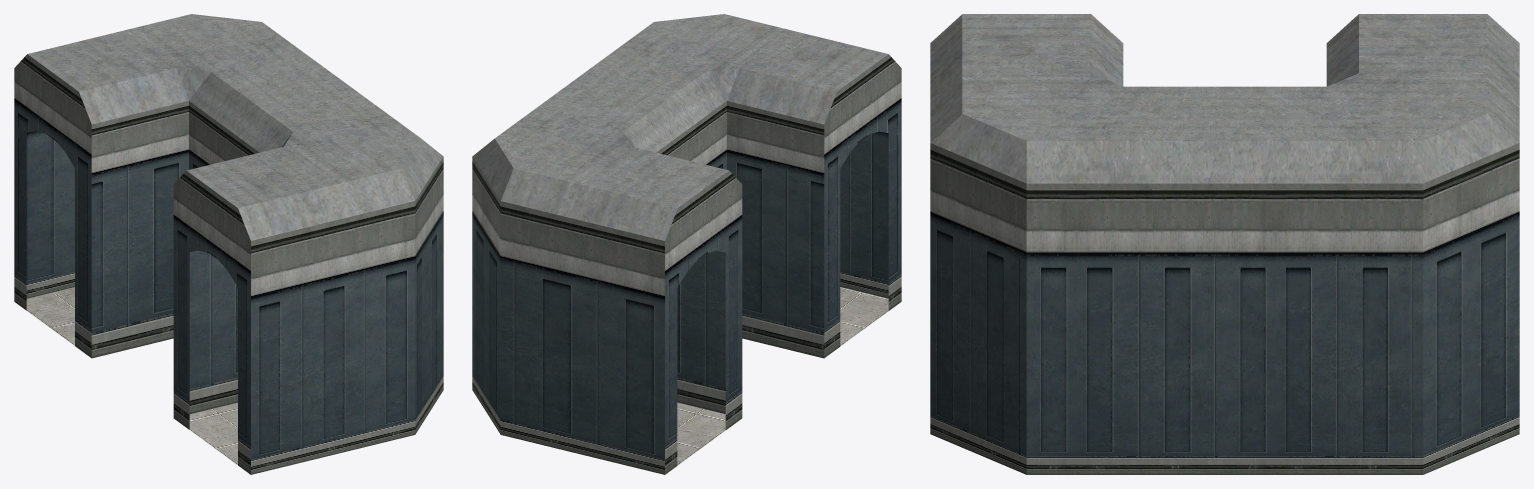
Rendered from thm_corl_imprv_slum_16x32_s02_r3_mesh_r3.fbx.
3 renders of one model, left to right at view 1: azimuth 30°, elevation 25°; view 2: azimuth 150°, elevation 25°; view 3: azimuth 270°, elevation 25°, orthographic. The views are drawn at different scales.
Parts seen in each view (by area): view 1: mesh_node; view 2: mesh_node; view 3: mesh_node.
Part boxes in pixels (<box>): mesh_node: <box>14,14,443,474</box>; mesh_node: <box>472,14,901,474</box>; mesh_node: <box>930,14,1519,474</box>.
Size of the model in its own units: 4.14 by 4.4 by 7.33.
